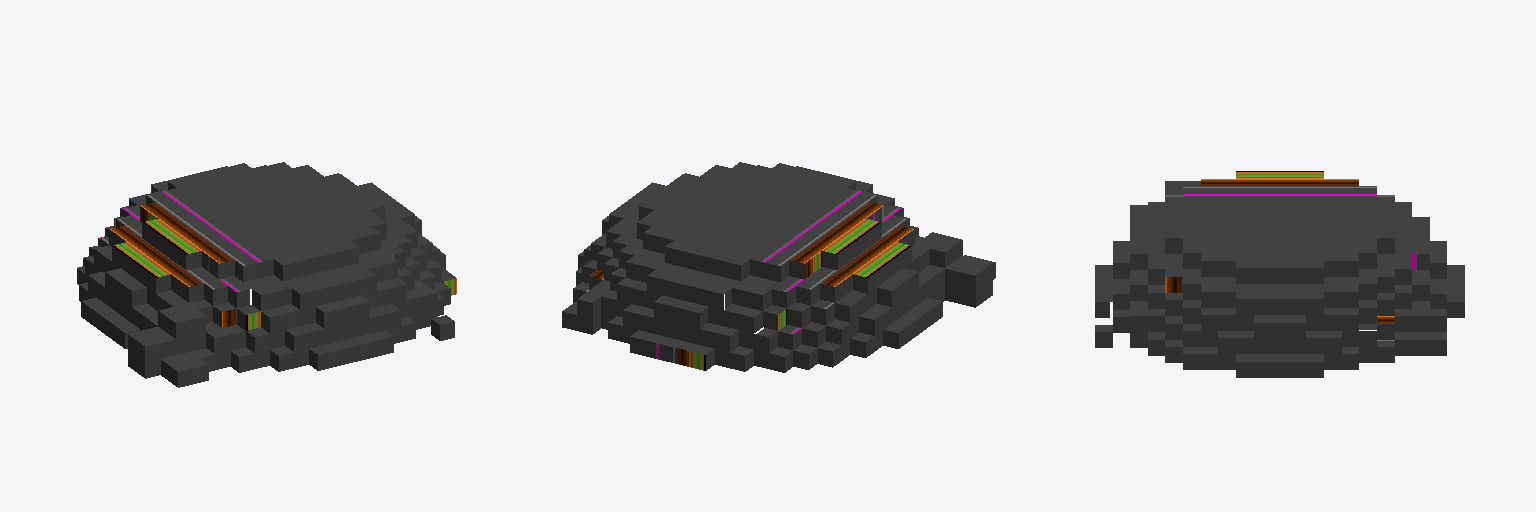
3 renders of one model, left to right at view 1: azimuth 30°, elevation 25°; view 2: azimuth 150°, elevation 25°; view 3: azimuth 270°, elevation 25°, orthographic.
Parts seen in each view (by area): view 1: Cube.520; view 2: Cube.520; view 3: Cube.520.
Boxes of the visible parts, x1=… form: Cube.520: x1=77, y1=162, x2=456, y2=387; Cube.520: x1=562, y1=162, x2=995, y2=372; Cube.520: x1=1095, y1=171, x2=1464, y2=377.
Size of the model in its own units: 2.2 by 0.5 by 2.1.
Materials: 1 (1 with a texture image).